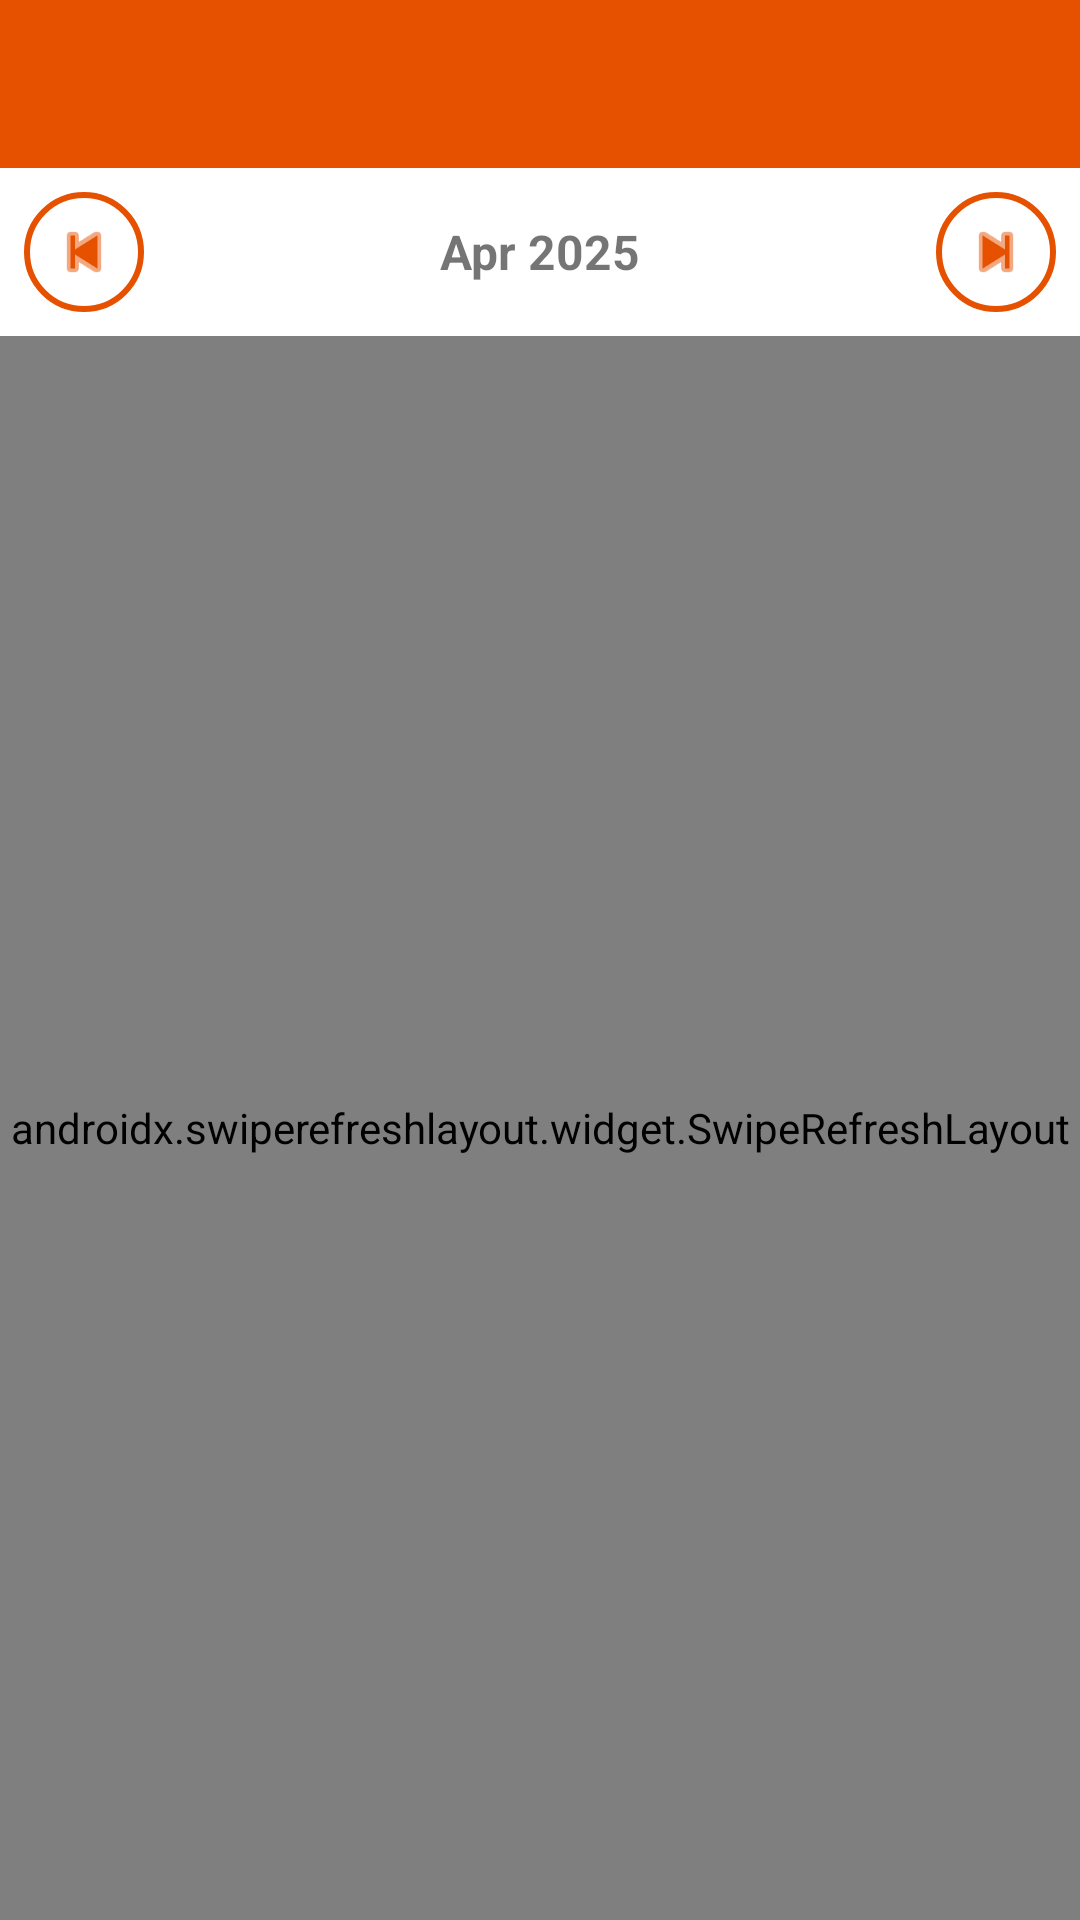

Named icons in this screenshot (1080 x 1920) and their centers, point (x, y):
Next Month: point (996, 252)
Previous Month: point (84, 252)
